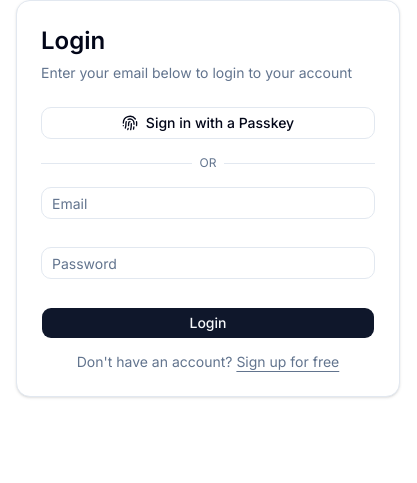
Test: LoginForm Component › Passkey Sign-In Ceremony › displays error if WebAuthn is not supported by the browser
Click the button "Sign in with a Passkey": (208, 123) [41, 107, 375, 139]
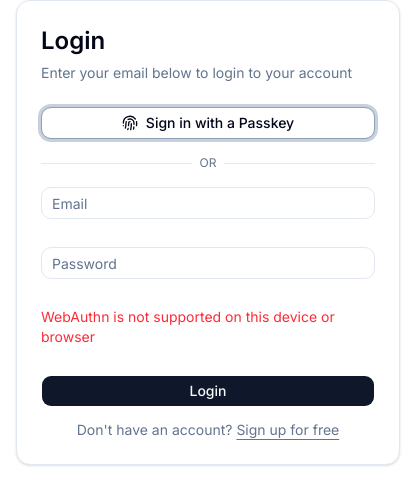
expect the text "WebAuthn is not supported on this device or browser" is shown: met, box [41, 307, 375, 347]
